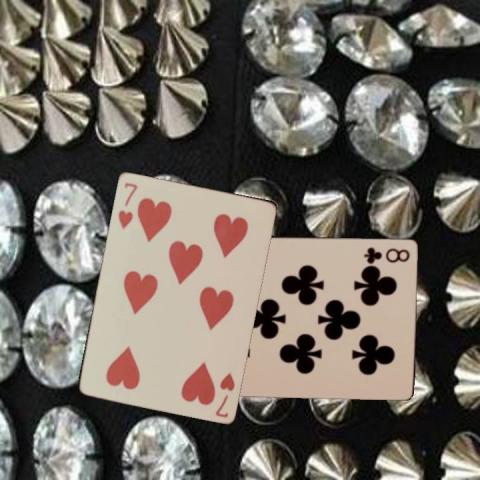7h: (114, 179, 138, 230), (212, 368, 236, 419)
8c: (361, 244, 412, 263)
